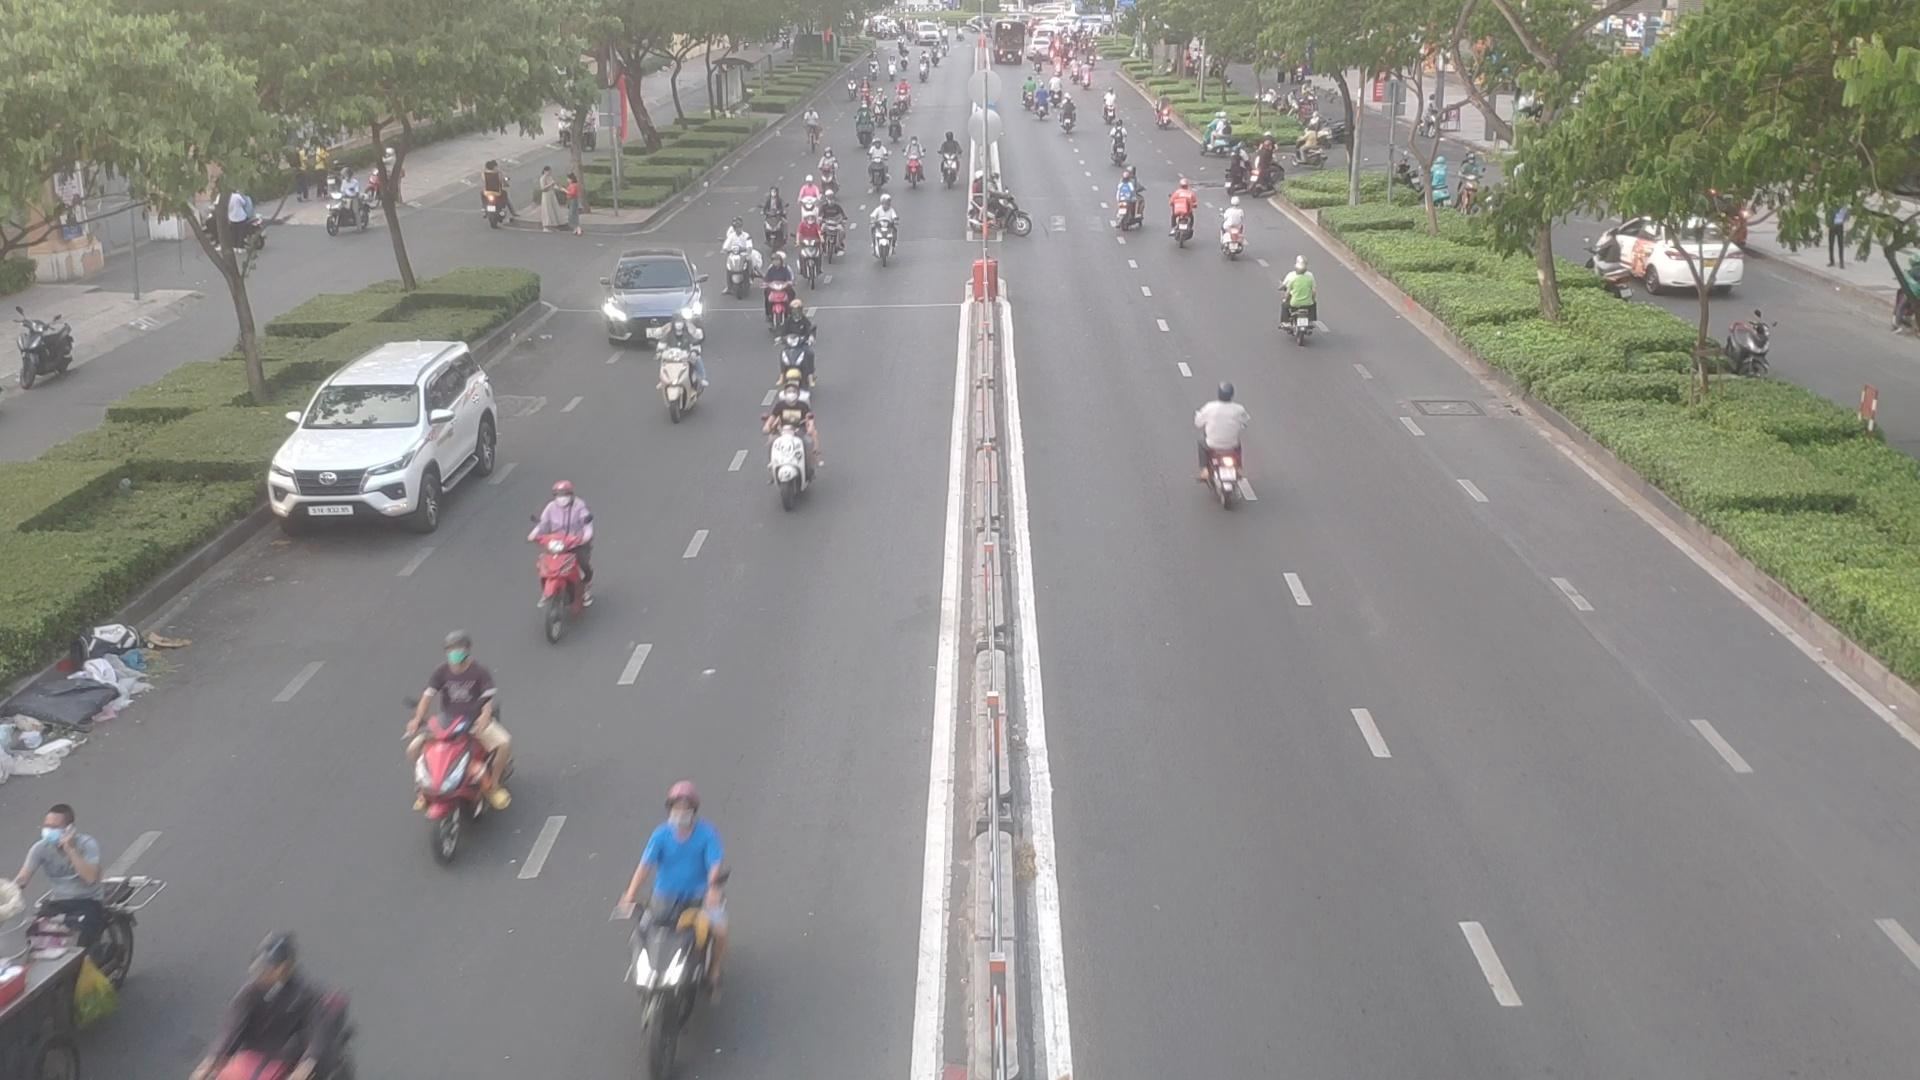car: (270, 342, 516, 531), (593, 249, 709, 345)
motorbike: (0, 812, 137, 1076), (607, 798, 725, 1052), (398, 646, 516, 855), (182, 938, 351, 1077), (522, 480, 609, 622), (1191, 382, 1269, 504), (761, 382, 837, 502), (649, 326, 713, 422), (771, 301, 827, 394), (967, 171, 1036, 243), (1269, 264, 1328, 344), (790, 211, 831, 284), (717, 239, 760, 298), (1166, 185, 1203, 251), (866, 208, 902, 269), (815, 200, 852, 257), (757, 260, 794, 316), (1220, 203, 1255, 260), (1116, 178, 1150, 233), (757, 195, 791, 249), (815, 146, 848, 198), (938, 138, 968, 187), (905, 142, 932, 190), (798, 173, 822, 224), (865, 144, 890, 183)
